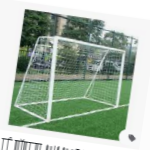goals: (13, 34, 128, 119)
